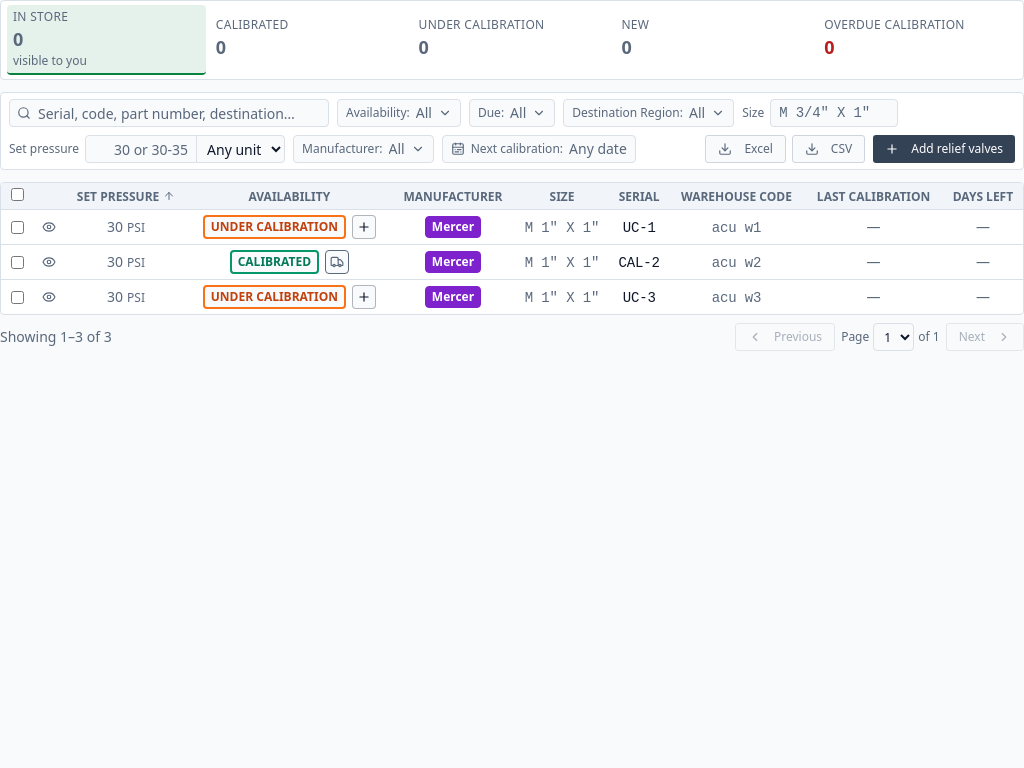
Test: Warehouse SRVs — send to calibration and bulk actions › WHB-6 a truck beside each new or calibrated valve opens the issue form straight away; UC valves get none
What coordinates should you click on to do the following:
click the button named "Issue to a station (صرف)"
I would click on:
 (337, 262)
Its box is x1=325 y1=250 x2=349 y2=274.
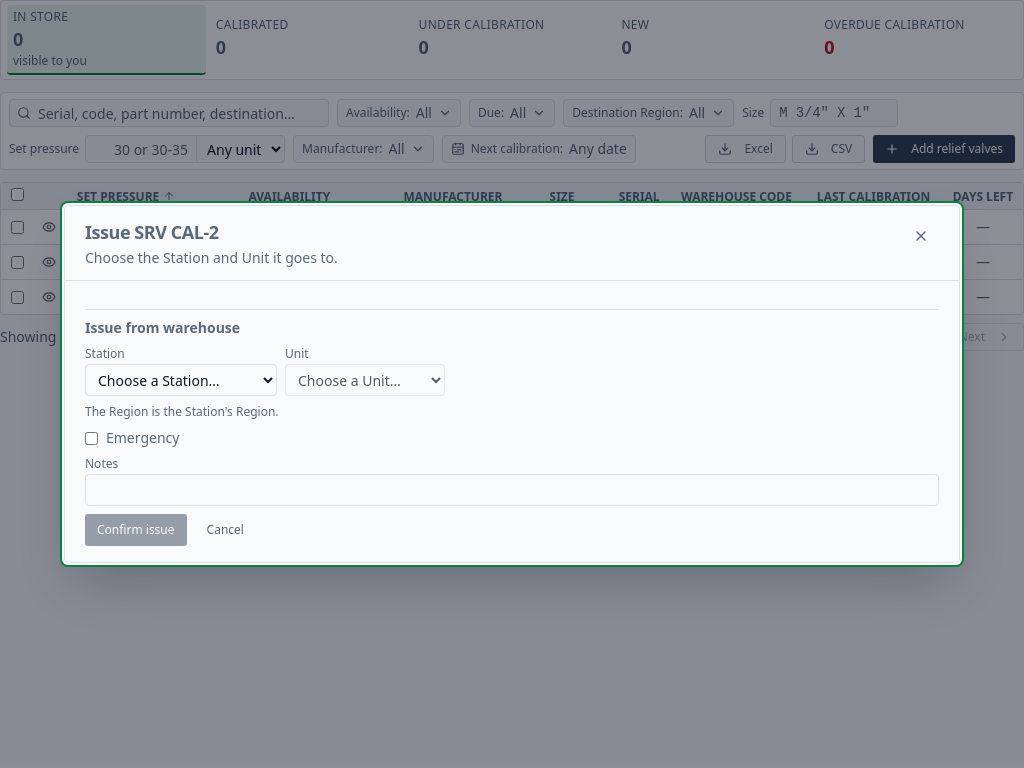
Expected: the heading "Issue SRV CAL-2" is shown, x1=85 y1=220 x2=219 y2=244
Expected: the dropdown labelled "Station" is shown, x1=85 y1=364 x2=277 y2=396
What coordinates should you click on to do the following:
click the button "Cancel"
I would click on:
 (225, 530)
Its box is x1=195 y1=514 x2=256 y2=546.
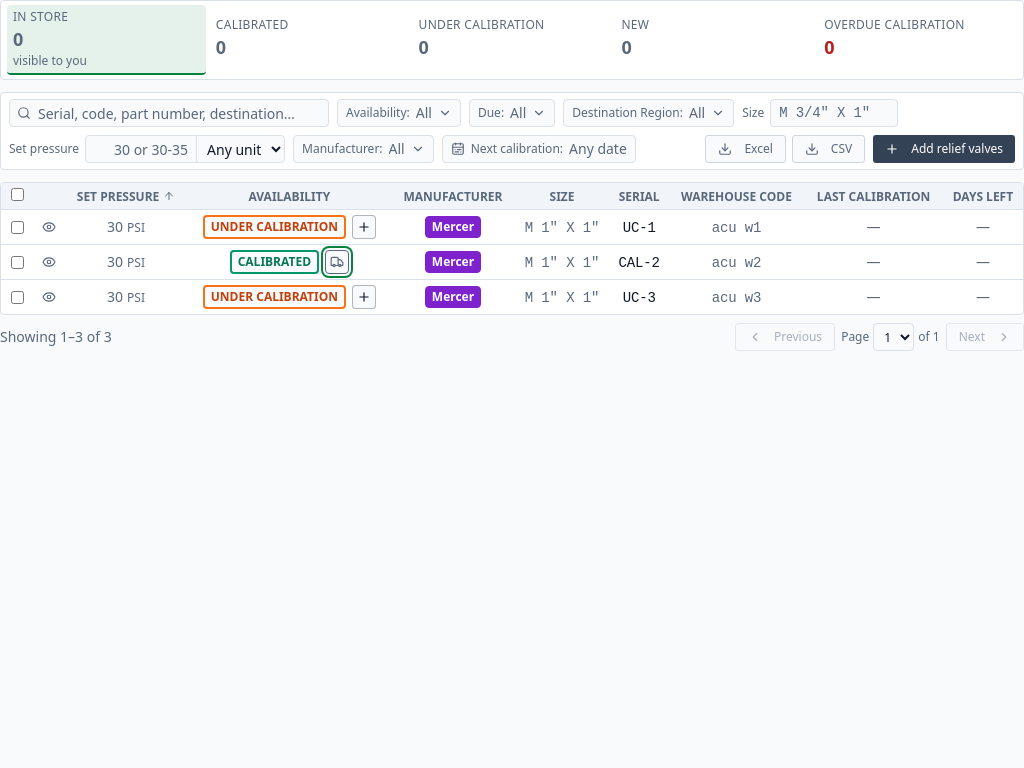
Expected: the dialog is gone
